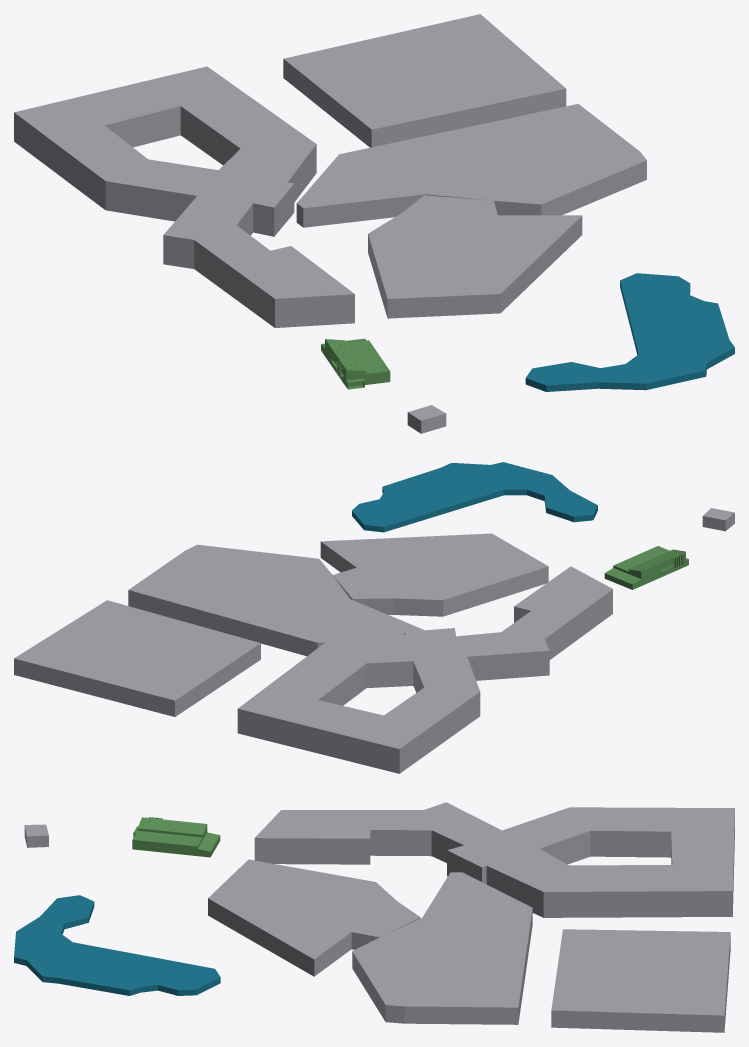
Rendered from K_Map4.glb.
3 views of the same model, one above another, from view 1: azimuth 30°, elevation 25°; view 2: azimuth 150°, elevation 25°; view 3: azimuth 270°, elevation 25° (orthographic). The views are drawn at different scales.
Parts seen in each view (by area): view 1: buildings, lake, KK; view 2: buildings, lake, KK; view 3: buildings, lake, KK.
Boxes of the visible parts, x1=… form: buildings: x1=14, y1=14, x2=646, y2=433; lake: x1=525, y1=273, x2=734, y2=391; KK: x1=321, y1=338, x2=390, y2=389; buildings: x1=14, y1=508, x2=734, y2=773; lake: x1=352, y1=462, x2=597, y2=532; KK: x1=604, y1=546, x2=688, y2=589; buildings: x1=24, y1=802, x2=734, y2=1032; lake: x1=14, y1=895, x2=220, y2=995; KK: x1=132, y1=817, x2=220, y2=857.
Bounding box in the file's own units: 335 × 24.11 × 499.
